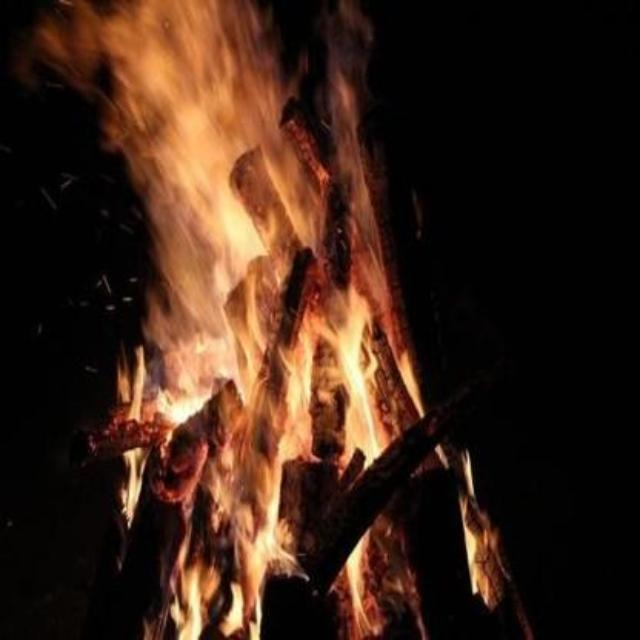Fire: (54, 11, 503, 638)
